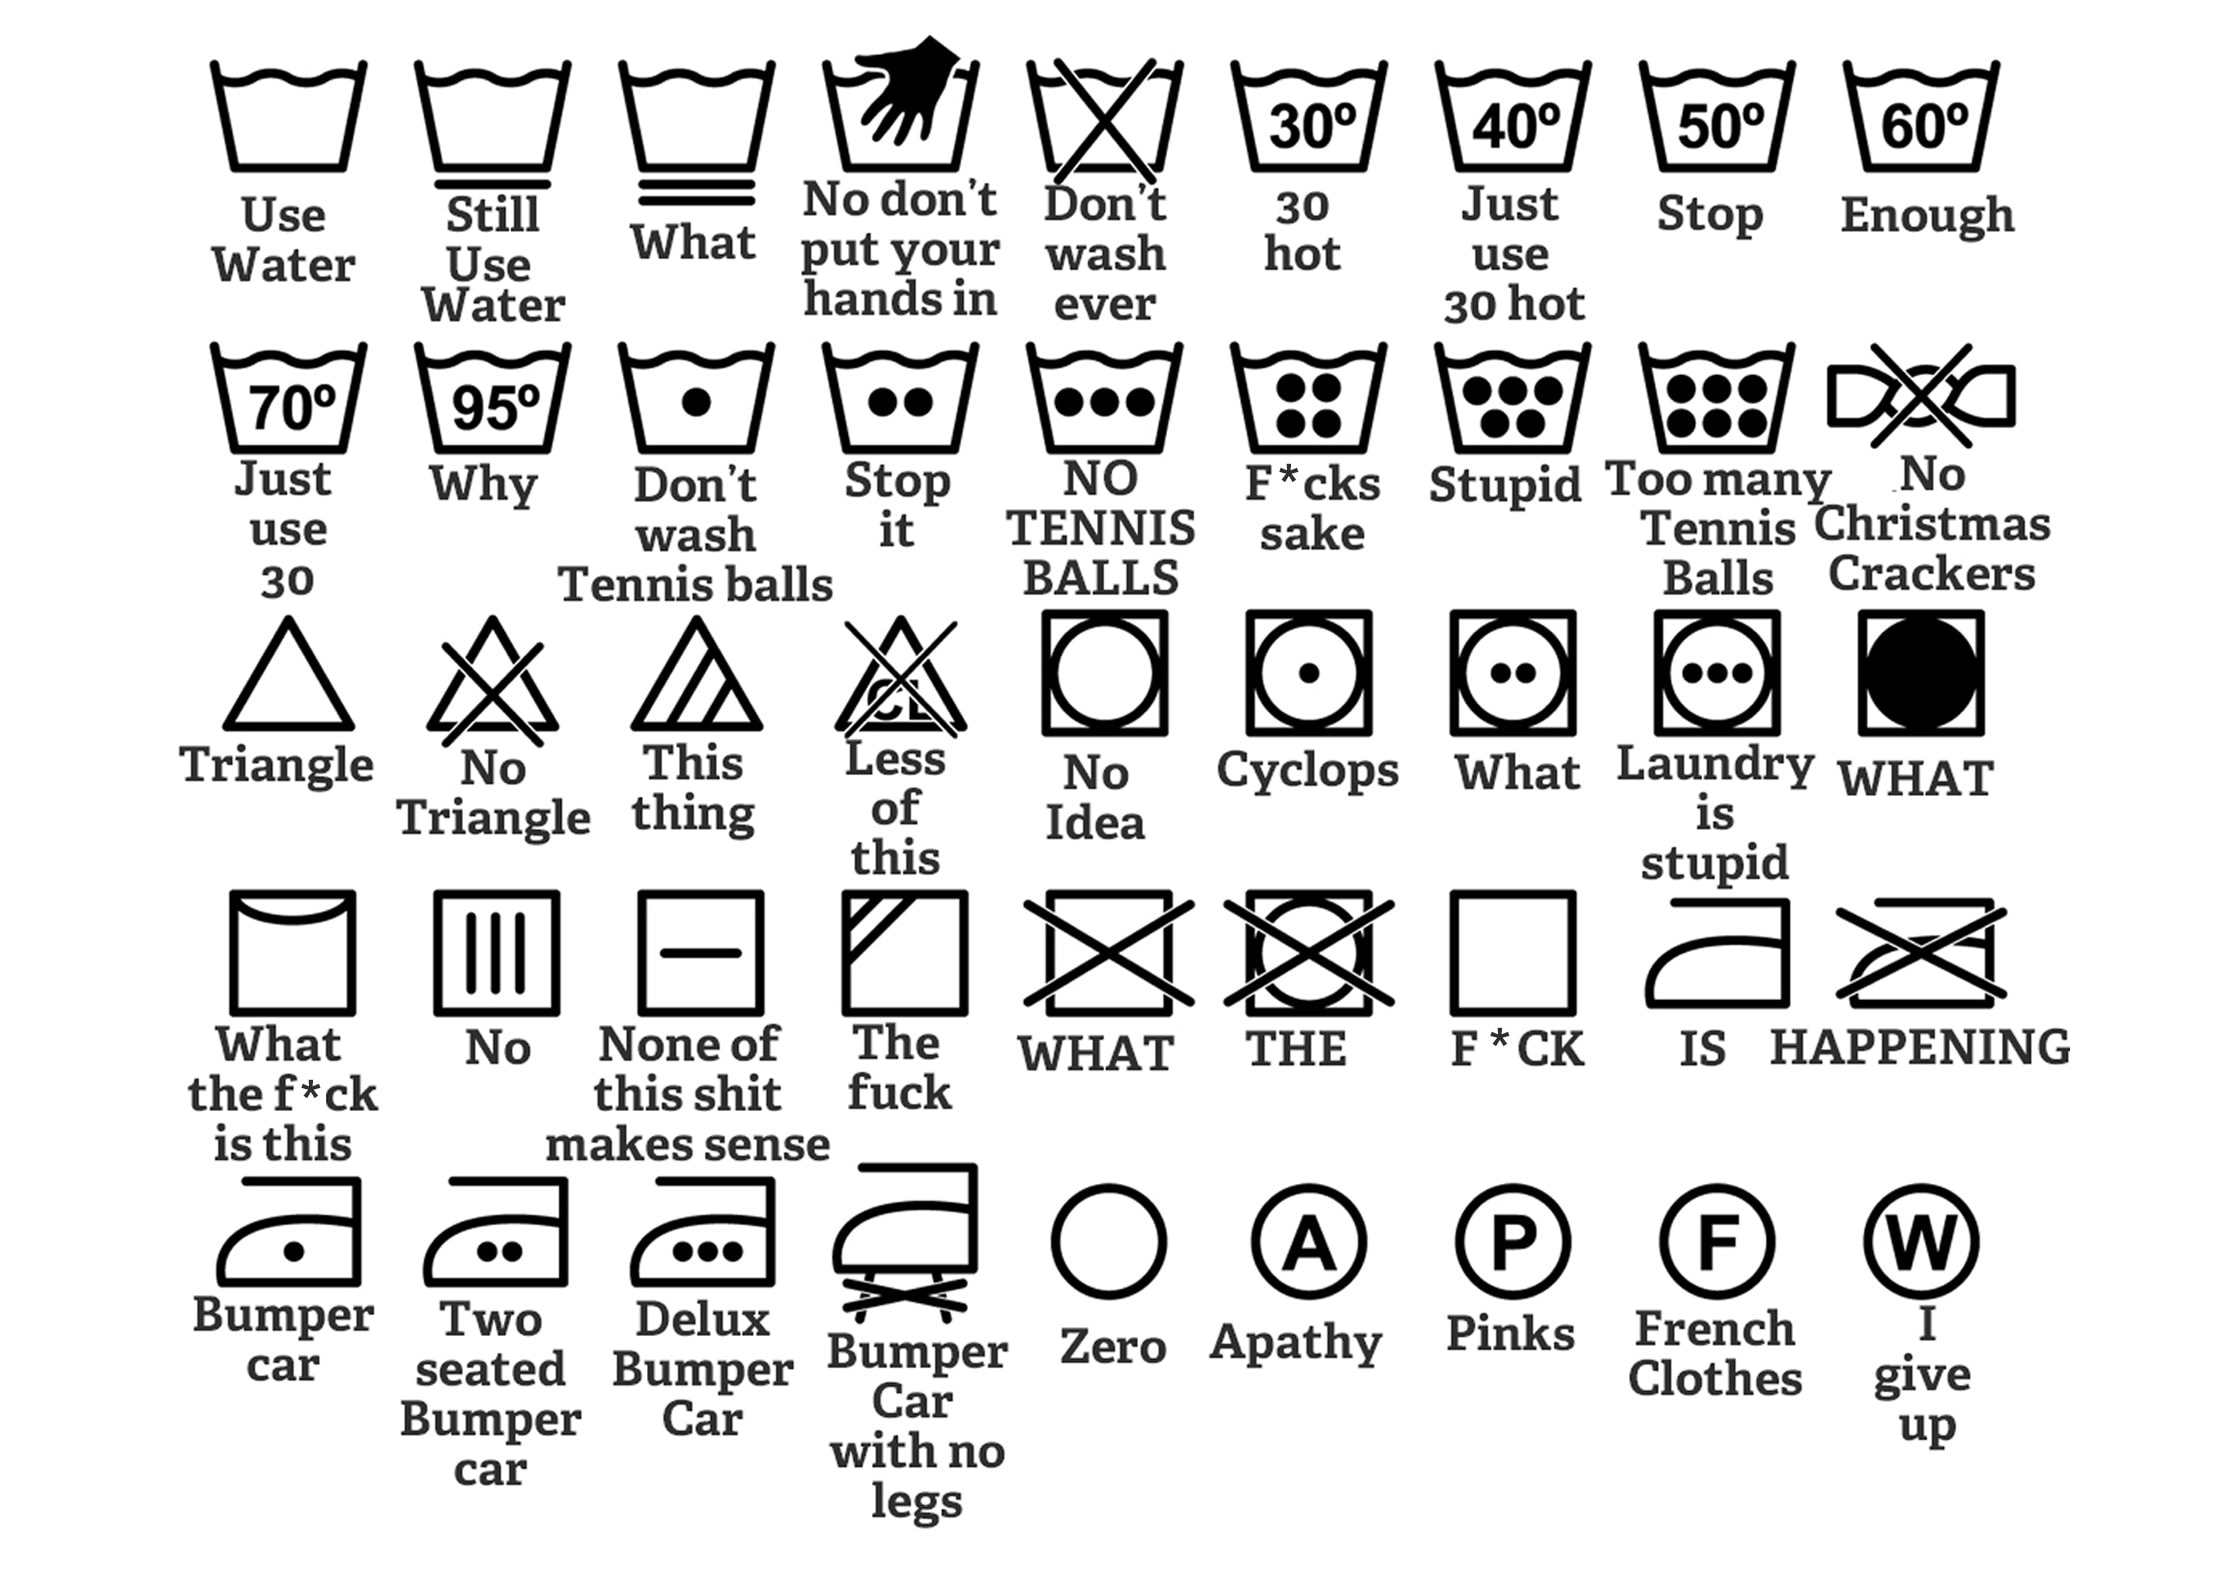do_not_iron: (1837, 893, 2007, 1014)
do_not_wash: (1026, 56, 1188, 182)
